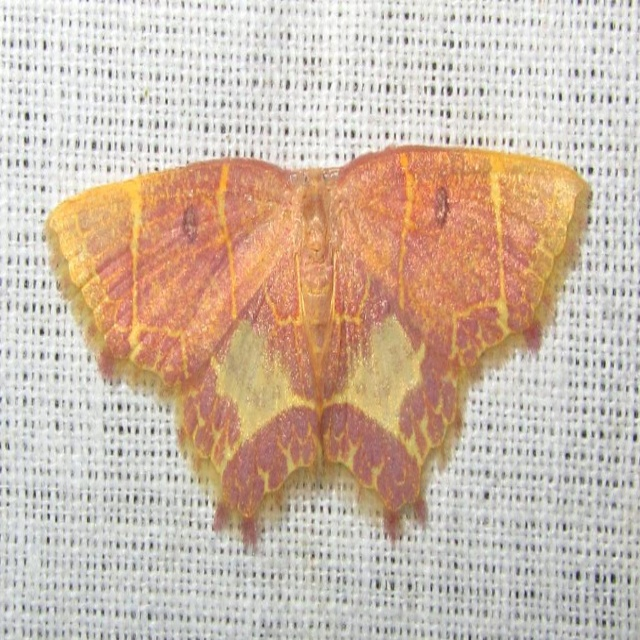Butterfly: (39, 152, 600, 551)
